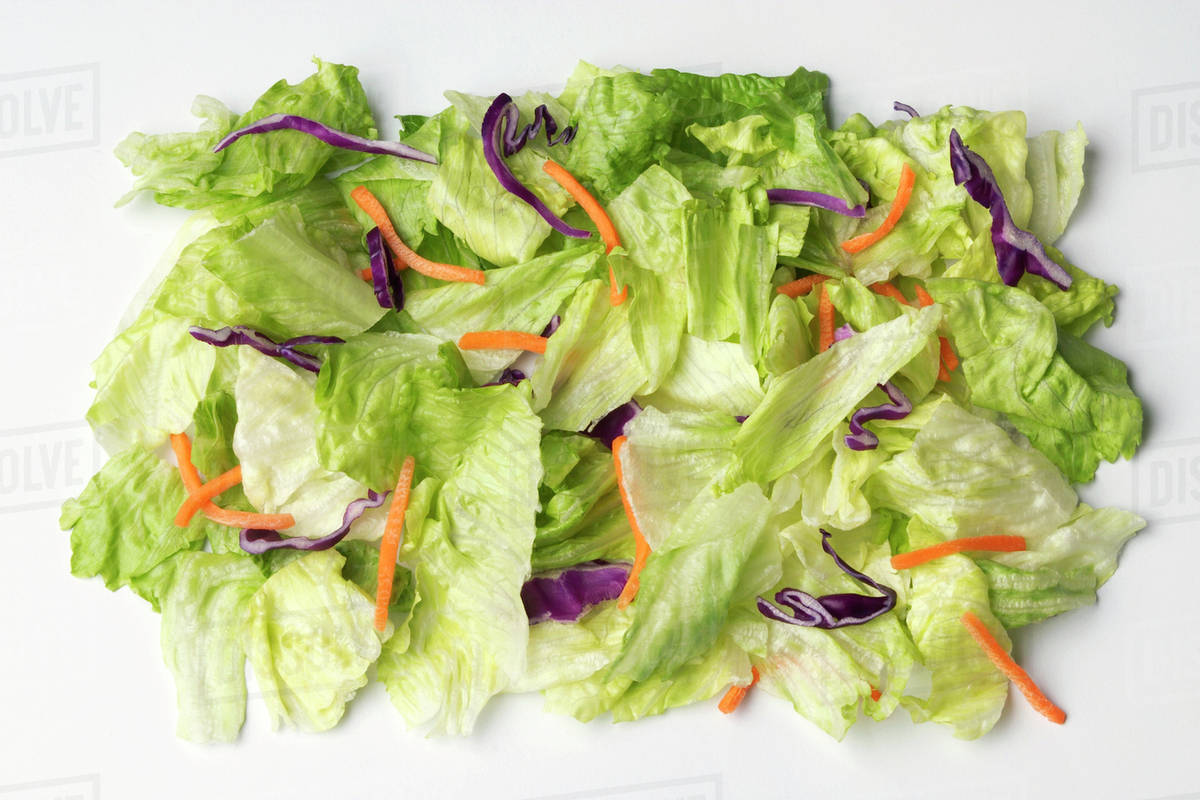chopped lettuce: (199, 130, 1066, 672)
